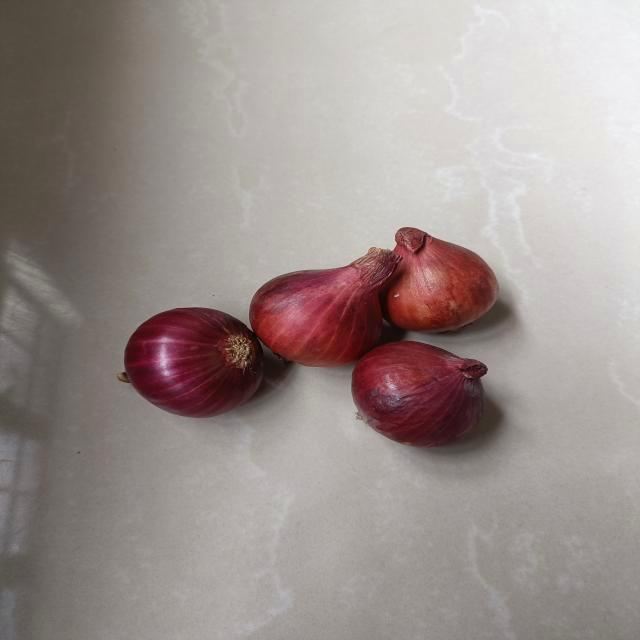onion: (244, 245, 407, 372), (118, 301, 270, 422), (349, 339, 495, 449), (379, 226, 501, 336)
